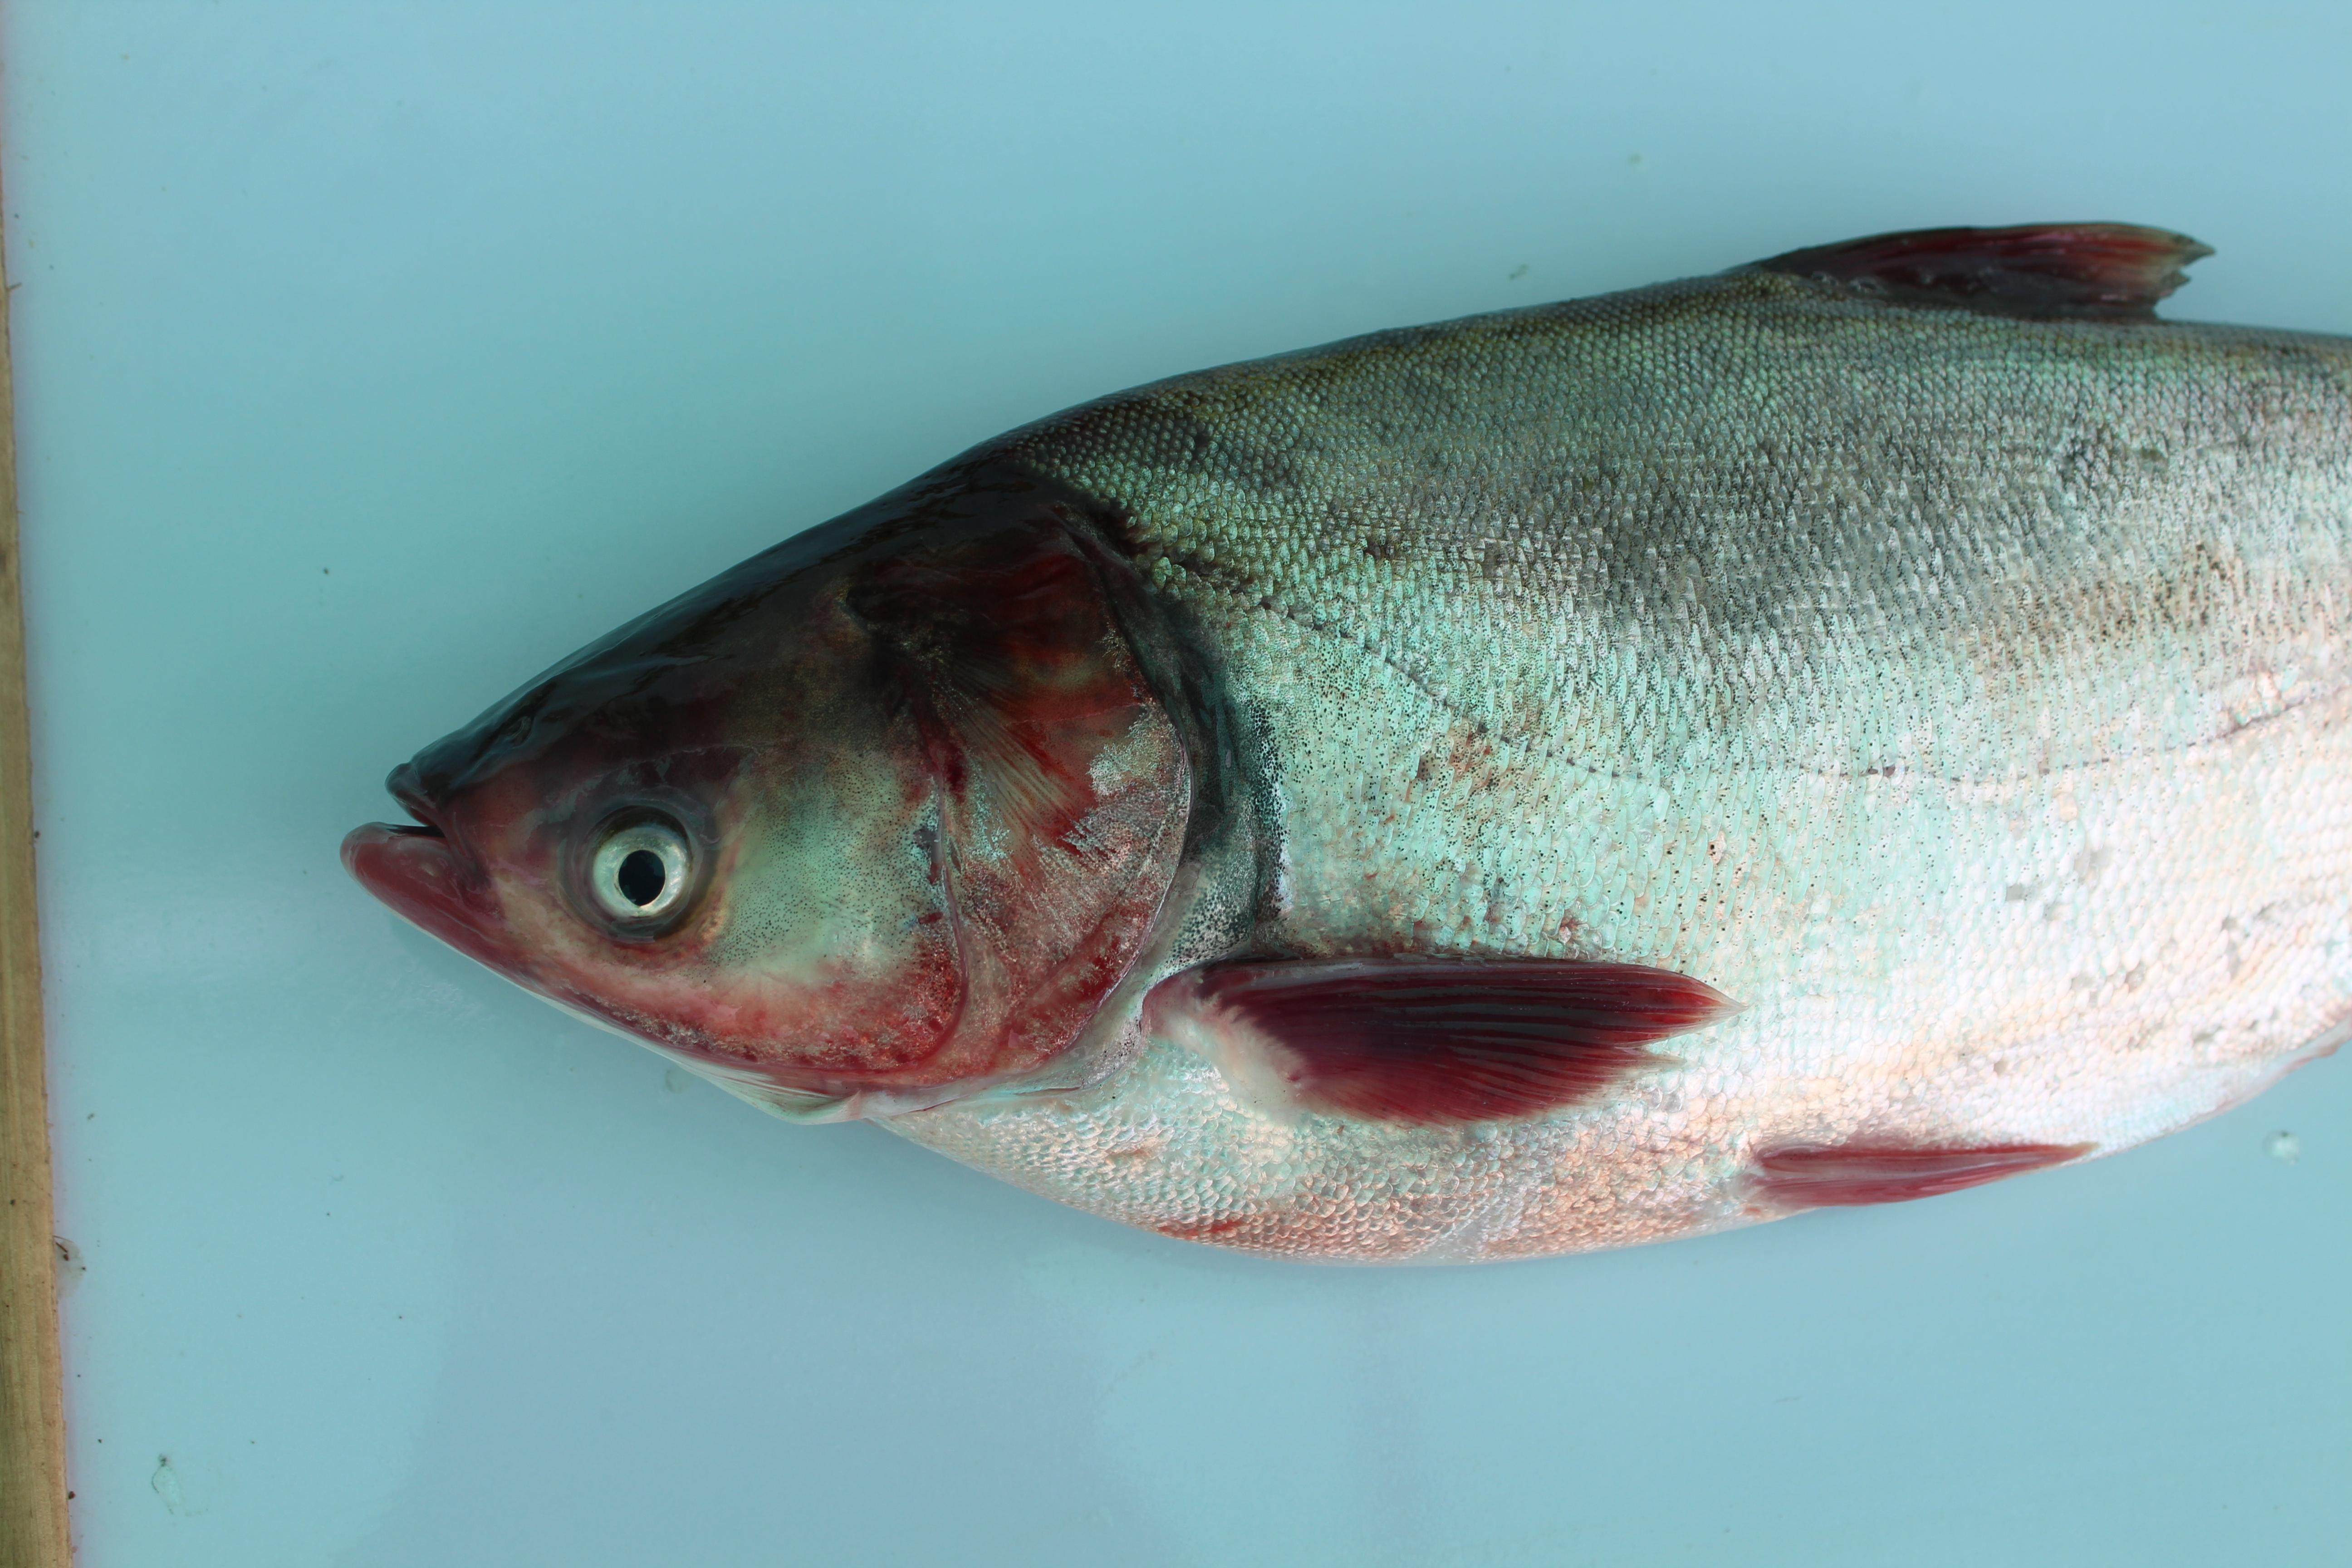Silver Carp: (360, 205, 2352, 1248)
